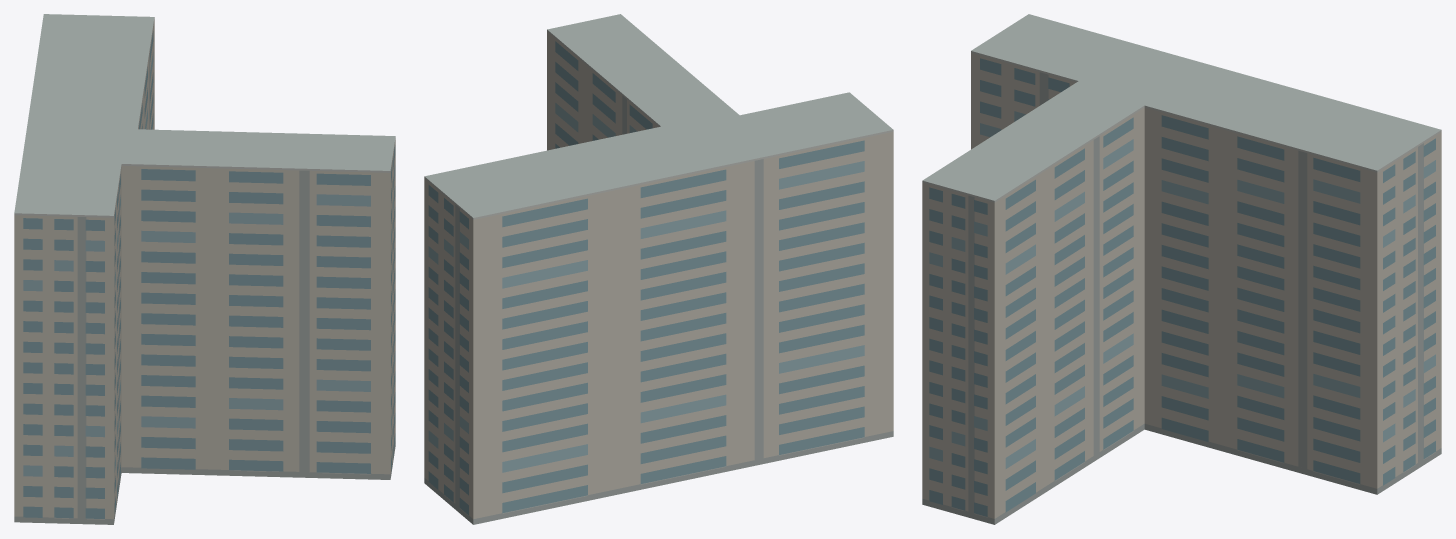
File: residential-a284c6c2-53b1-434b-aed0-5a7eea6e7772.glb
The picture shows the model from 3 angles, left to right: view 1: azimuth 30°, elevation 25°; view 2: azimuth 150°, elevation 25°; view 3: azimuth 270°, elevation 25°; orthographic projection. The views are drawn at different scales.
Parts seen in each view (by area): view 1: residential-a284c6c2-53b1-434b-aed0-5a7eea6e7772.tmp; view 2: residential-a284c6c2-53b1-434b-aed0-5a7eea6e7772.tmp; view 3: residential-a284c6c2-53b1-434b-aed0-5a7eea6e7772.tmp.
Part boxes in pixels (left/top/right/bottom): residential-a284c6c2-53b1-434b-aed0-5a7eea6e7772.tmp: left=14, top=14, right=395, bottom=524; residential-a284c6c2-53b1-434b-aed0-5a7eea6e7772.tmp: left=424, top=14, right=893, bottom=524; residential-a284c6c2-53b1-434b-aed0-5a7eea6e7772.tmp: left=922, top=14, right=1441, bottom=524.
Size of the model in its own units: 49.47 by 40 by 58.1.
